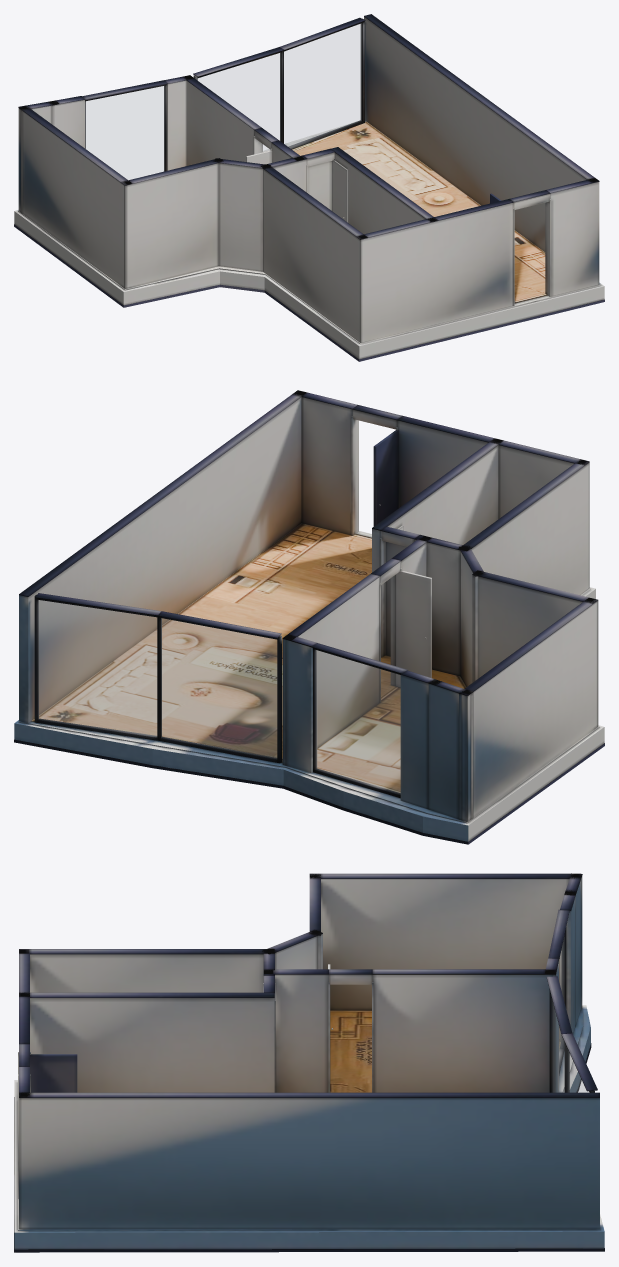
3 renders of one model, top to bottom at view 1: azimuth 30°, elevation 25°; view 2: azimuth 150°, elevation 25°; view 3: azimuth 270°, elevation 25°, orthographic. The views are drawn at different scales.
Visible parts, largest first — view 1: plan, glass2_m, glass0_m, glass1_m; view 2: plan, glass2_m, glass1_m, glass0_m; view 3: plan, glass1_m.
Boxes of the visible parts, bbox=[...] form: plan: bbox=[14, 14, 604, 361]; glass2_m: bbox=[284, 23, 361, 146]; glass0_m: bbox=[86, 86, 164, 179]; glass1_m: bbox=[198, 53, 280, 151]; plan: bbox=[14, 390, 604, 844]; glass2_m: bbox=[38, 600, 156, 736]; glass1_m: bbox=[161, 618, 276, 758]; glass0_m: bbox=[315, 650, 400, 793]; plan: bbox=[14, 873, 604, 1252]; glass1_m: bbox=[552, 1001, 564, 1092].
Bounding box in the file's own units: 8.38 × 2.62 × 9.18.
Materials: 2 (1 with a texture image).
